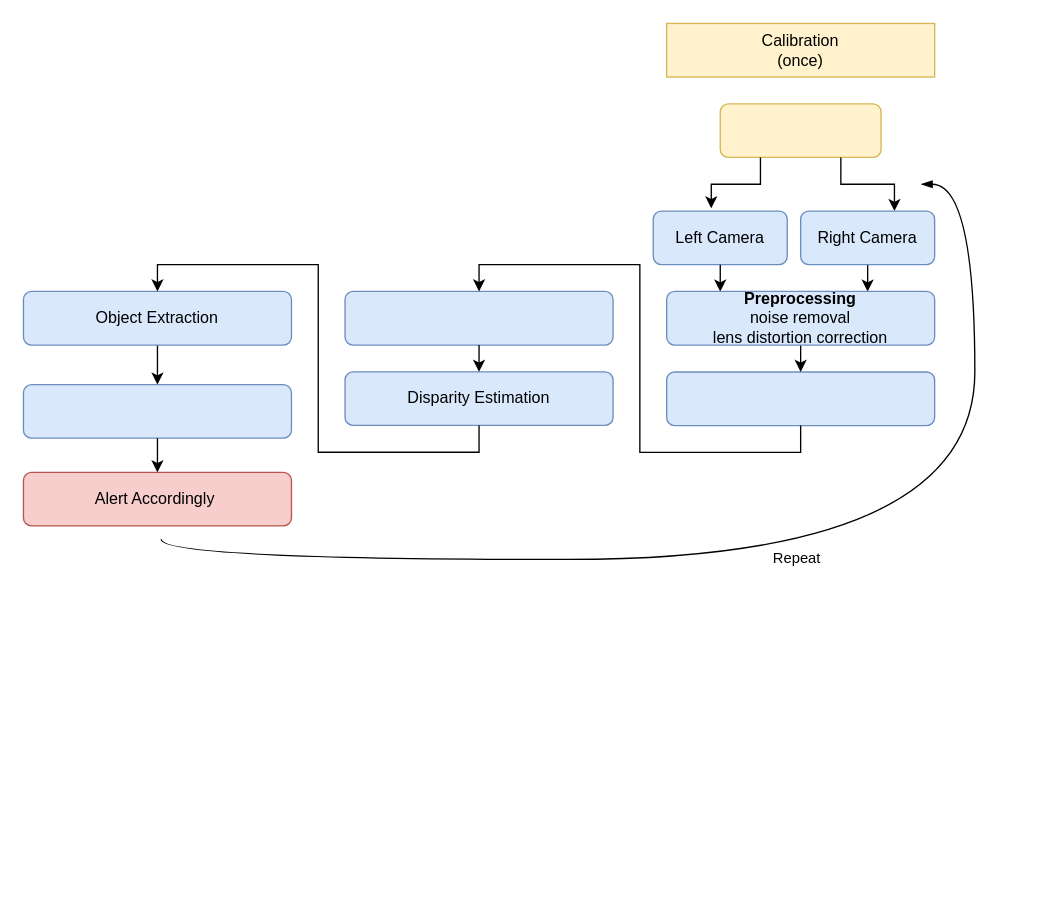
Image size: 1039x905. Some labels were removed from this diagram. Here are the shapes that lost their labels. From the top down, the centre of each, then its label:
point (800, 130): Object
point (478, 317): Rectification of stereo images
point (156, 410): Distance Measurements
point (800, 398): Feature Extraction Correspondence Matching
